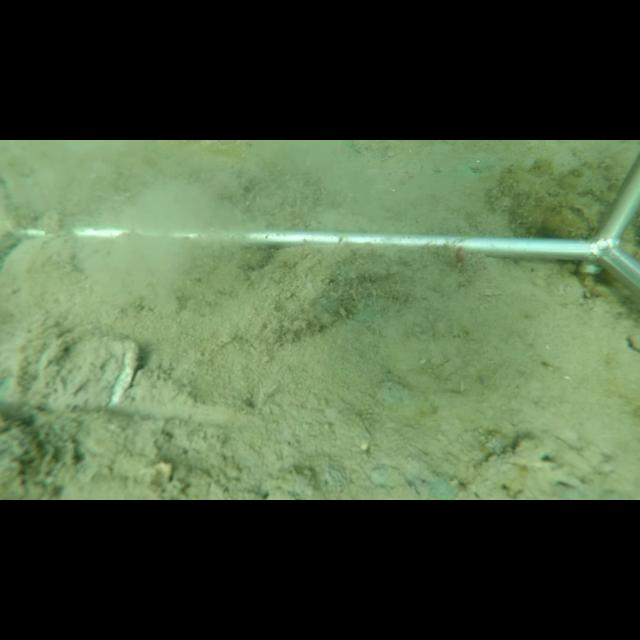Oyster-Closed: (29, 322, 142, 409)
